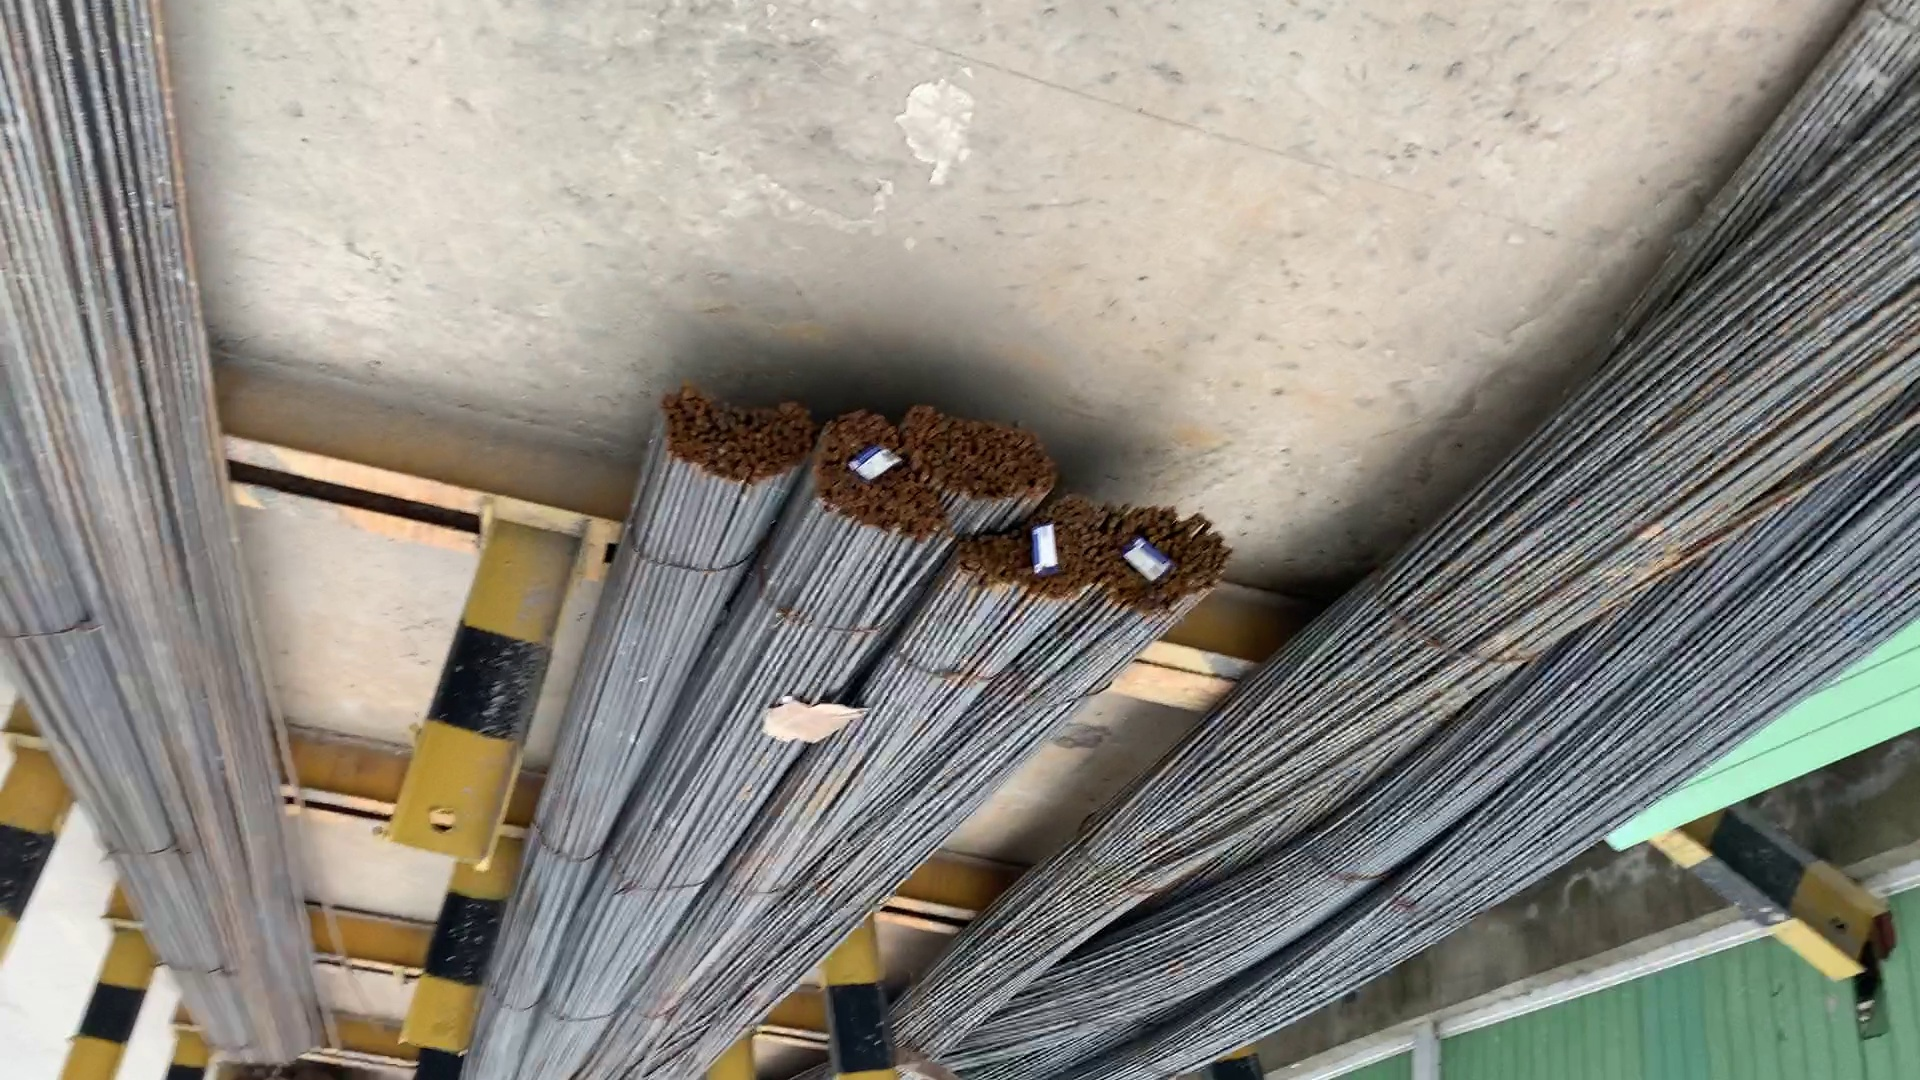rebar: (905, 396, 1058, 506), (812, 415, 942, 545), (952, 502, 1102, 599), (659, 388, 810, 483), (1106, 502, 1236, 611)
